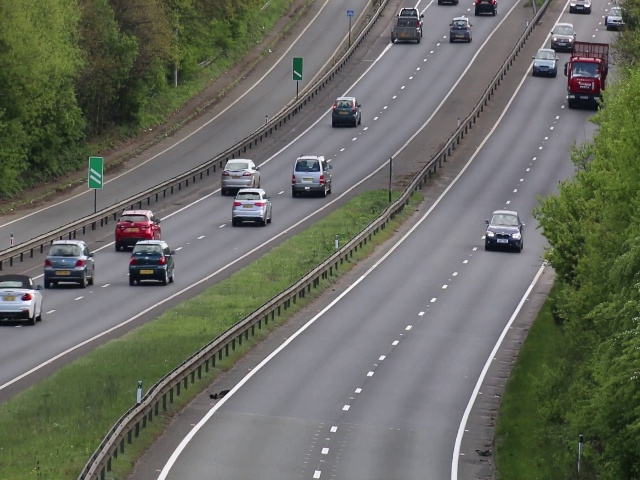car: (45, 237, 97, 287), (128, 237, 179, 284), (567, 53, 603, 108), (1, 275, 41, 324), (483, 209, 523, 254), (292, 157, 332, 196), (113, 209, 161, 238), (230, 191, 275, 221), (329, 95, 363, 128), (222, 158, 261, 183), (532, 47, 557, 75), (551, 22, 574, 45), (604, 10, 622, 26)
